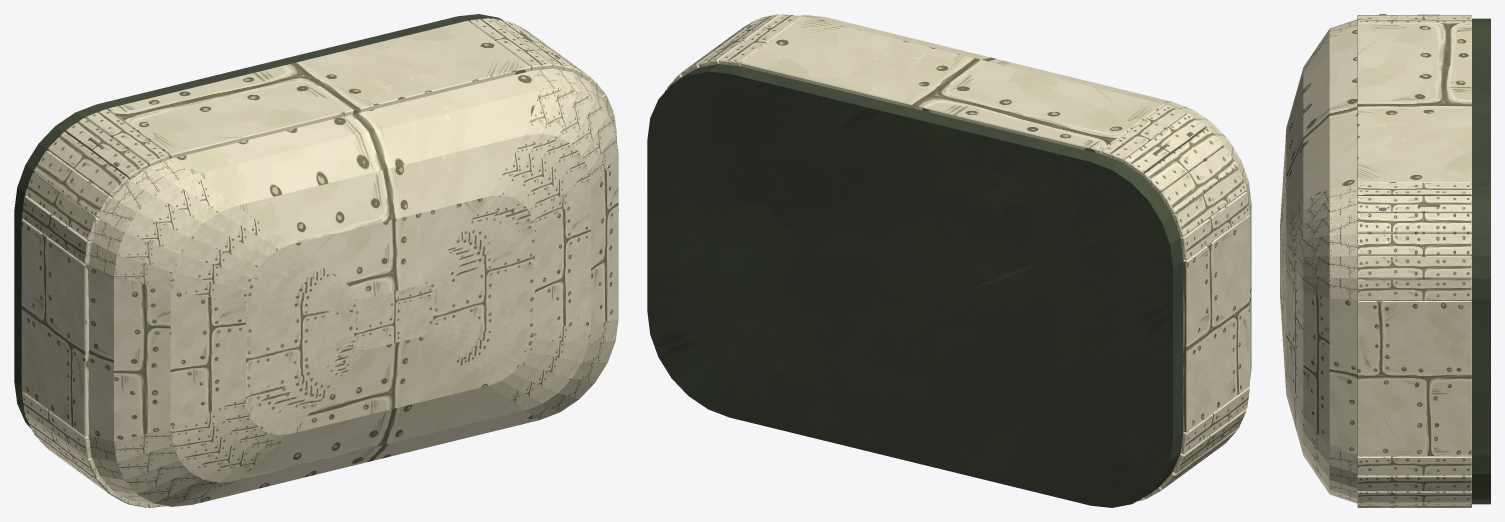
The model's file is ECHO7_21_Sala_Comun.obj.
3 views of the same model, side by side, from view 1: azimuth 30°, elevation 25°; view 2: azimuth 150°, elevation 25°; view 3: azimuth 270°, elevation 25° (orthographic). The views are drawn at different scales.
Visible parts, largest first — view 1: ECHO7_21_Sala_Comun__Pared_presion_07, ECHO7_21_Sala_Comun__Techo_curvo_35, ECHO7_21_Sala_Comun__Techo_curvo_63, ECHO7_21_Sala_Comun__Pared_presion_14, ECHO7_21_Sala_Comun__Techo_curvo_91, ECHO7_21_Sala_Comun__Techo_curvo_70, ECHO7_21_Sala_Comun__Techo_curvo_42, ECHO7_21_Sala_Comun__Techo_curvo_77, ECHO7_21_Sala_Comun__Techo_curvo_105, ECHO7_21_Sala_Comun__Techo_curvo_07, ECHO7_21_Sala_Comun__Techo_curvo_98, ECHO7_21_Sala_Comun__Techo_curvo_84 (+78 smaller); view 2: ECHO7_21_Sala_Comun__Suelo_modulo_01, ECHO7_21_Sala_Comun__Pared_presion_07, ECHO7_21_Sala_Comun__Pared_presion_14, ECHO7_21_Sala_Comun__Pared_presion_11, ECHO7_21_Sala_Comun__Pared_presion_10, ECHO7_21_Sala_Comun__Pared_presion_12, ECHO7_21_Sala_Comun__Pared_presion_09, ECHO7_21_Sala_Comun__Techo_curvo_07, ECHO7_21_Sala_Comun__Pared_presion_13, ECHO7_21_Sala_Comun__Pared_presion_08, ECHO7_21_Sala_Comun__Pared_presion_15, ECHO7_21_Sala_Comun__Pared_presion_06 (+2 smaller); view 3: ECHO7_21_Sala_Comun__Pared_presion_07, ECHO7_21_Sala_Comun__Pared_presion_27, ECHO7_21_Sala_Comun__Suelo_modulo_01, ECHO7_21_Sala_Comun__Techo_curvo_07, ECHO7_21_Sala_Comun__Techo_curvo_28, ECHO7_21_Sala_Comun__Techo_curvo_35, ECHO7_21_Sala_Comun__Techo_curvo_56, ECHO7_21_Sala_Comun__Pared_presion_01, ECHO7_21_Sala_Comun__Pared_presion_02, ECHO7_21_Sala_Comun__Pared_presion_03, ECHO7_21_Sala_Comun__Pared_presion_04, ECHO7_21_Sala_Comun__Pared_presion_26 (+33 smaller).
Part boxes in pixels (x1,y1,x2,y2): ECHO7_21_Sala_Comun__Pared_presion_07: [107, 20, 531, 158]; ECHO7_21_Sala_Comun__Techo_curvo_35: [193, 90, 539, 205]; ECHO7_21_Sala_Comun__Techo_curvo_63: [237, 135, 525, 244]; ECHO7_21_Sala_Comun__Pared_presion_14: [21, 219, 88, 436]; ECHO7_21_Sala_Comun__Techo_curvo_91: [291, 196, 489, 298]; ECHO7_21_Sala_Comun__Techo_curvo_70: [170, 290, 245, 427]; ECHO7_21_Sala_Comun__Techo_curvo_42: [114, 276, 170, 441]; ECHO7_21_Sala_Comun__Techo_curvo_77: [237, 385, 524, 480]; ECHO7_21_Sala_Comun__Techo_curvo_105: [291, 337, 489, 433]; ECHO7_21_Sala_Comun__Techo_curvo_07: [171, 71, 539, 174]; ECHO7_21_Sala_Comun__Techo_curvo_98: [246, 303, 354, 397]; ECHO7_21_Sala_Comun__Techo_curvo_84: [535, 188, 590, 326]; ECHO7_21_Sala_Comun__Suelo_modulo_01: [647, 64, 1183, 507]; ECHO7_21_Sala_Comun__Pared_presion_07: [740, 16, 1164, 154]; ECHO7_21_Sala_Comun__Pared_presion_14: [1183, 215, 1249, 432]; ECHO7_21_Sala_Comun__Pared_presion_11: [1159, 146, 1237, 214]; ECHO7_21_Sala_Comun__Pared_presion_10: [1143, 128, 1223, 193]; ECHO7_21_Sala_Comun__Pared_presion_12: [1172, 168, 1246, 236]; ECHO7_21_Sala_Comun__Pared_presion_09: [1123, 113, 1206, 175]; ECHO7_21_Sala_Comun__Techo_curvo_07: [814, 17, 1172, 105]; ECHO7_21_Sala_Comun__Pared_presion_13: [1180, 191, 1249, 260]; ECHO7_21_Sala_Comun__Pared_presion_08: [1101, 105, 1185, 162]; ECHO7_21_Sala_Comun__Pared_presion_15: [1180, 387, 1249, 454]; ECHO7_21_Sala_Comun__Pared_presion_06: [719, 14, 802, 65]; ECHO7_21_Sala_Comun__Pared_presion_07: [1357, 23, 1471, 183]; ECHO7_21_Sala_Comun__Pared_presion_27: [1357, 300, 1471, 456]; ECHO7_21_Sala_Comun__Suelo_modulo_01: [1472, 18, 1490, 504]; ECHO7_21_Sala_Comun__Techo_curvo_07: [1329, 27, 1357, 188]; ECHO7_21_Sala_Comun__Techo_curvo_28: [1329, 298, 1357, 454]; ECHO7_21_Sala_Comun__Techo_curvo_35: [1303, 36, 1329, 200]; ECHO7_21_Sala_Comun__Techo_curvo_56: [1303, 292, 1329, 446]; ECHO7_21_Sala_Comun__Pared_presion_01: [1357, 278, 1471, 300]; ECHO7_21_Sala_Comun__Pared_presion_02: [1357, 256, 1471, 278]; ECHO7_21_Sala_Comun__Pared_presion_03: [1357, 233, 1471, 255]; ECHO7_21_Sala_Comun__Pared_presion_04: [1357, 213, 1471, 233]; ECHO7_21_Sala_Comun__Pared_presion_26: [1357, 456, 1471, 475].
Size of the model in its own units: 16.22 by 10.35 by 6.15.
Materials: 7 (7 with a texture image).
